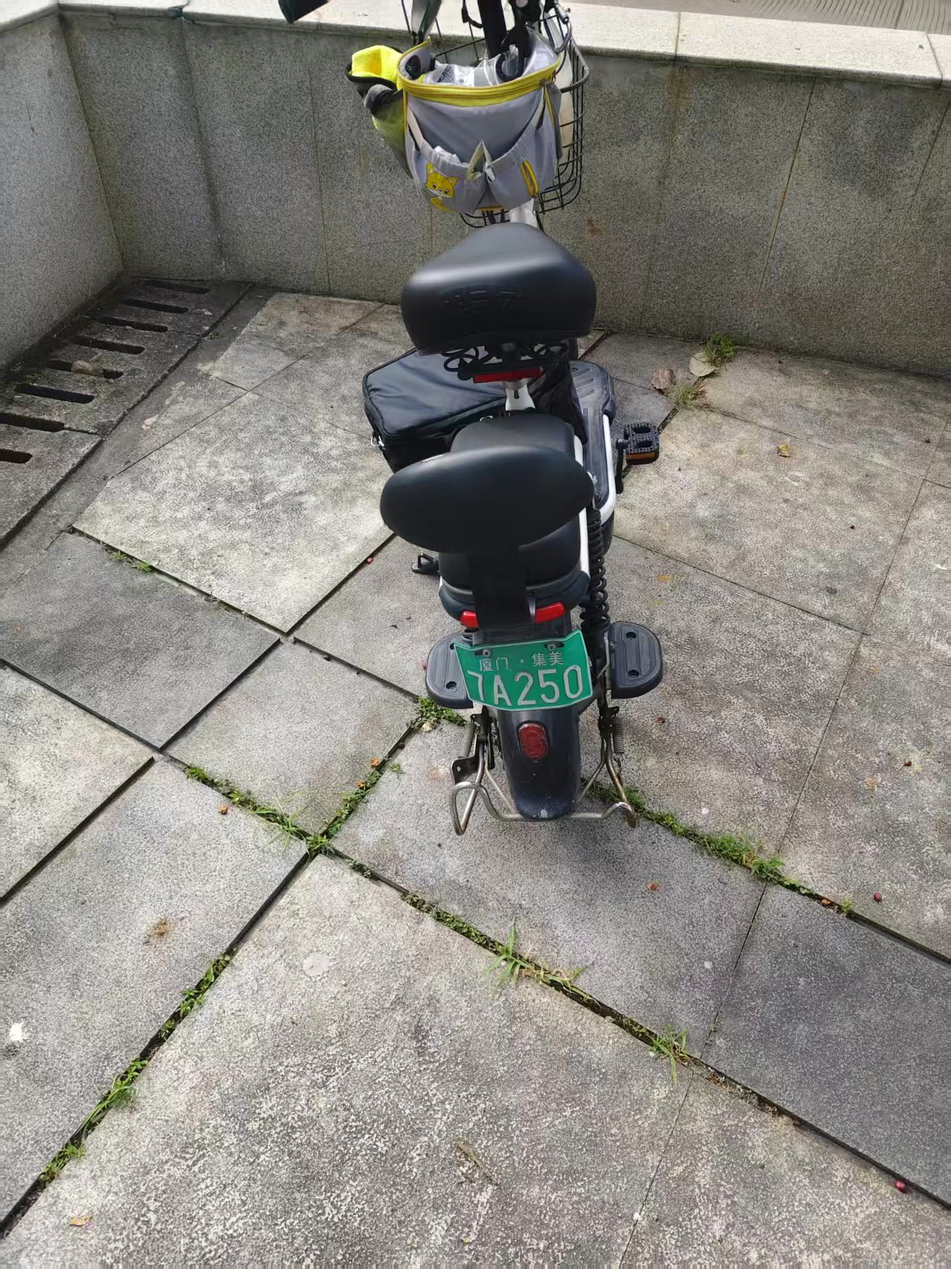plate: (450, 646, 601, 711)
